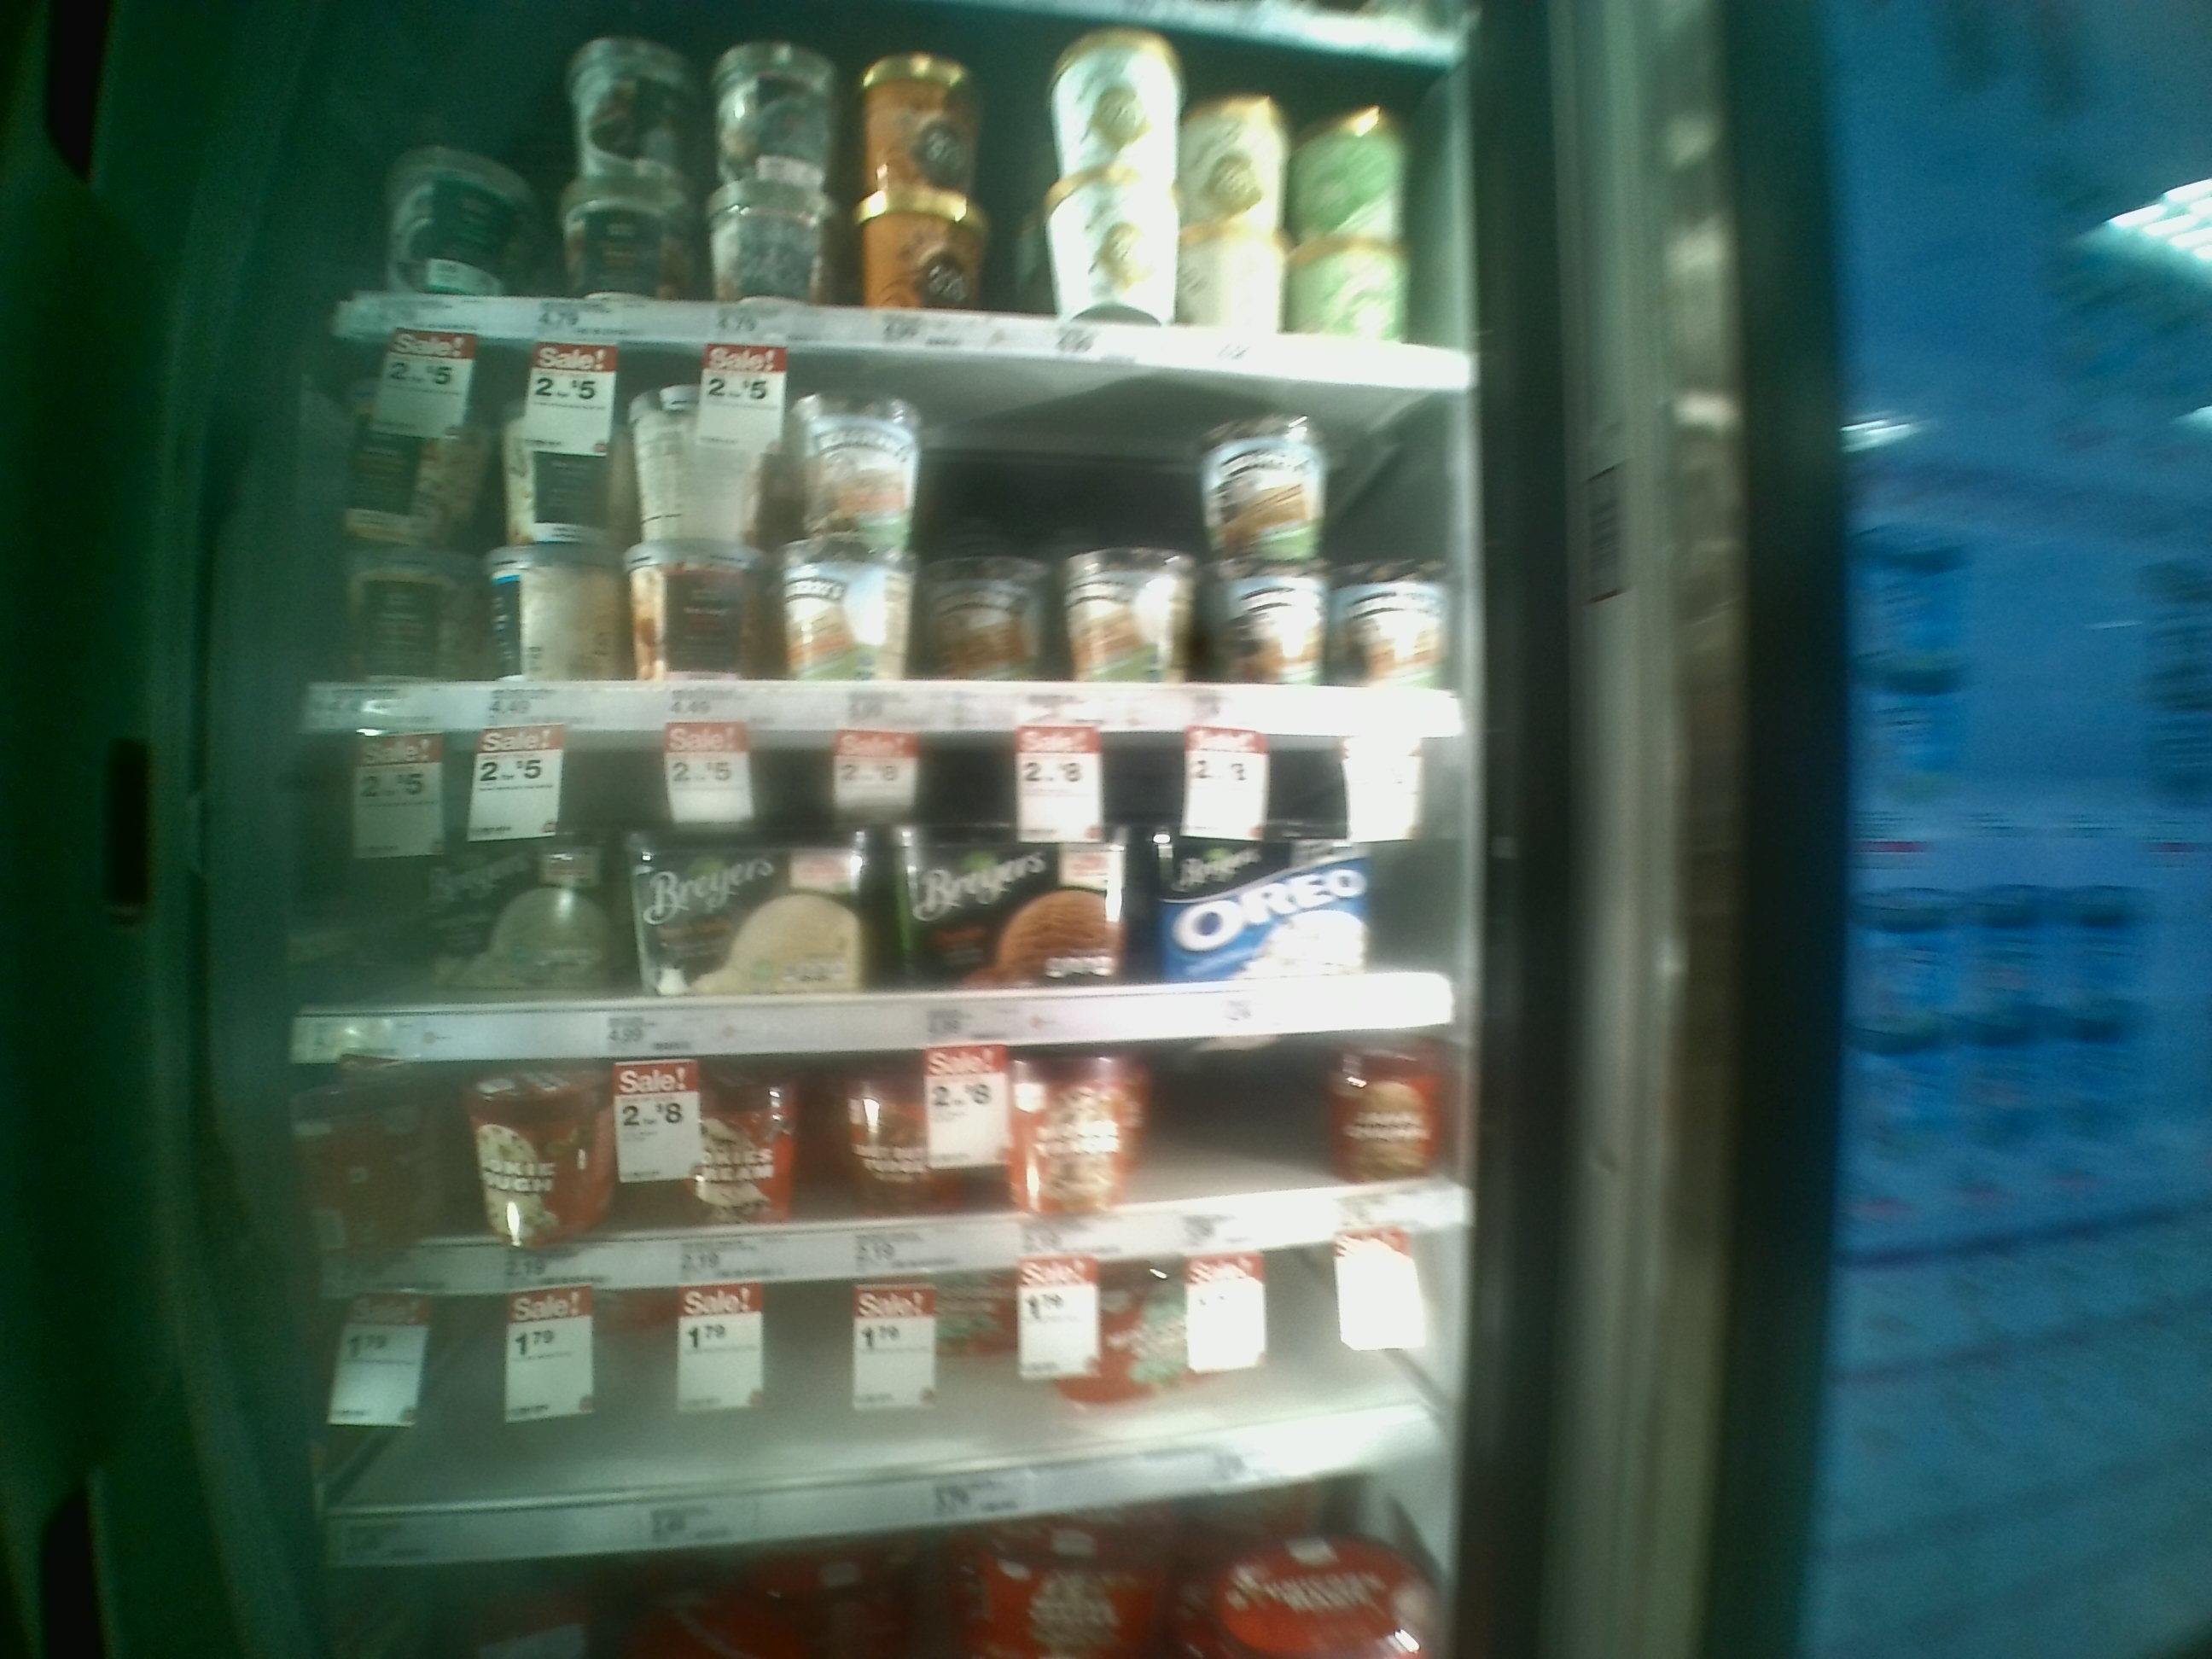shelf: (310, 317, 1480, 732), (301, 727, 1479, 1058), (291, 1063, 1484, 1297)
